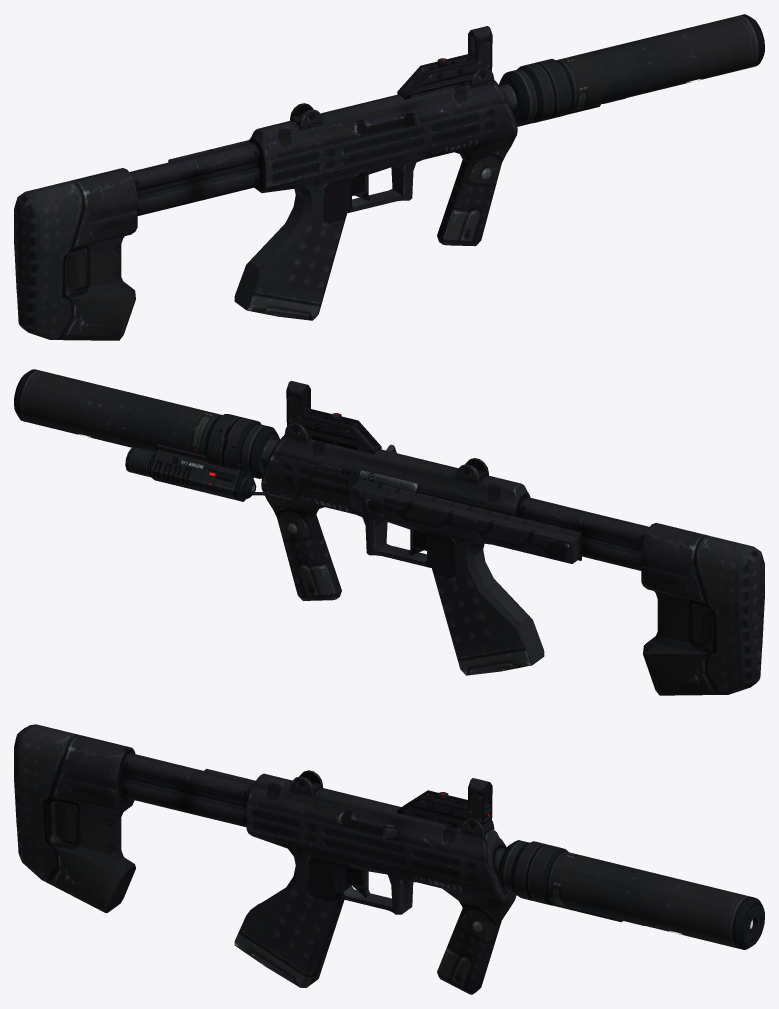
Rendered from H3SMGSilence.fbx.
The picture shows the model from 3 angles, top to bottom: view 1: azimuth 30°, elevation 25°; view 2: azimuth 150°, elevation 25°; view 3: azimuth 330°, elevation 25°; orthographic projection.
Visible parts, largest first — view 1: FP Silenced SMG; view 2: FP Silenced SMG; view 3: FP Silenced SMG.
Boxes of the visible parts, box(x1,y1,x2,y2) form: FP Silenced SMG: box(14, 14, 764, 340); FP Silenced SMG: box(14, 369, 764, 695); FP Silenced SMG: box(14, 724, 764, 994).
Bounding box in the file's own units: 89.11 × 28.51 × 7.93.
